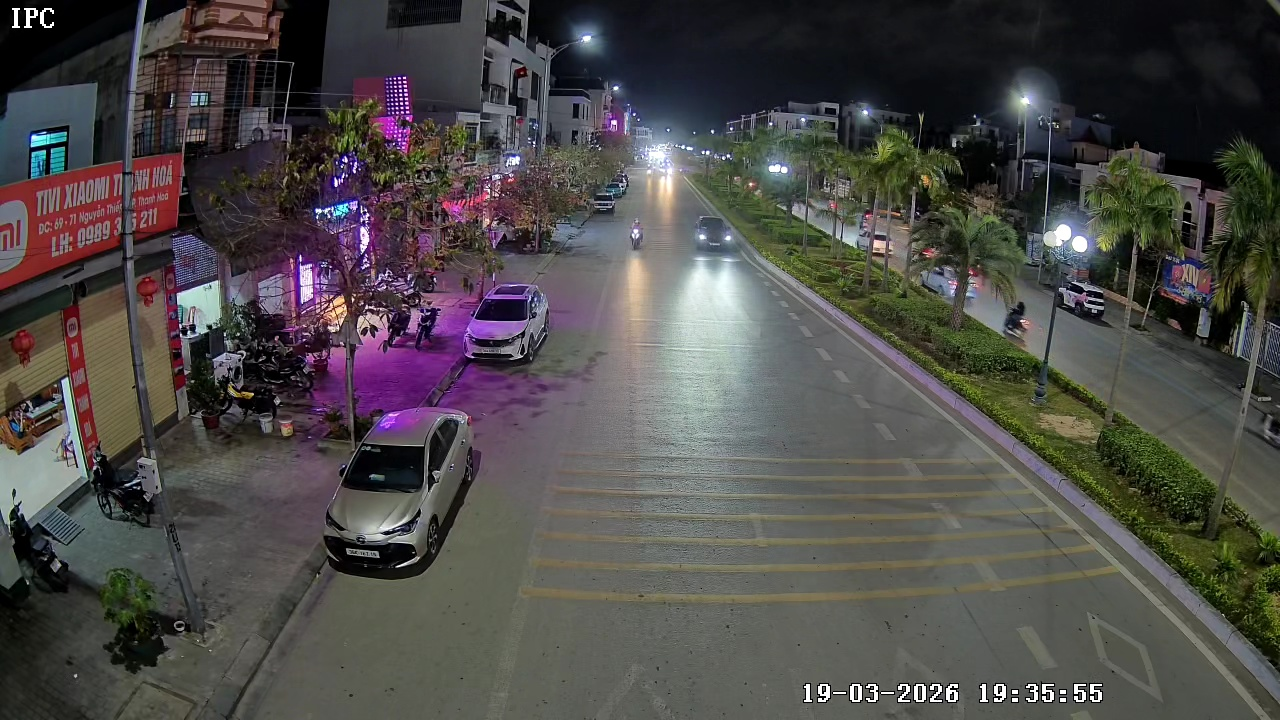car: (323, 405, 481, 576), (464, 281, 551, 364), (693, 212, 735, 253), (589, 188, 618, 216)
motorbike: (628, 217, 644, 250)
pedestrian: (1001, 299, 1029, 337)
